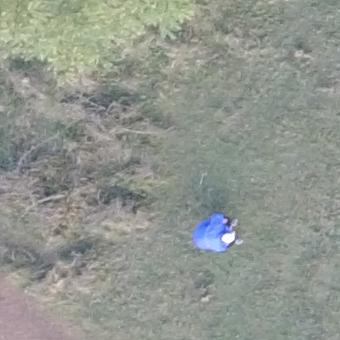human: (190, 211, 245, 254)
